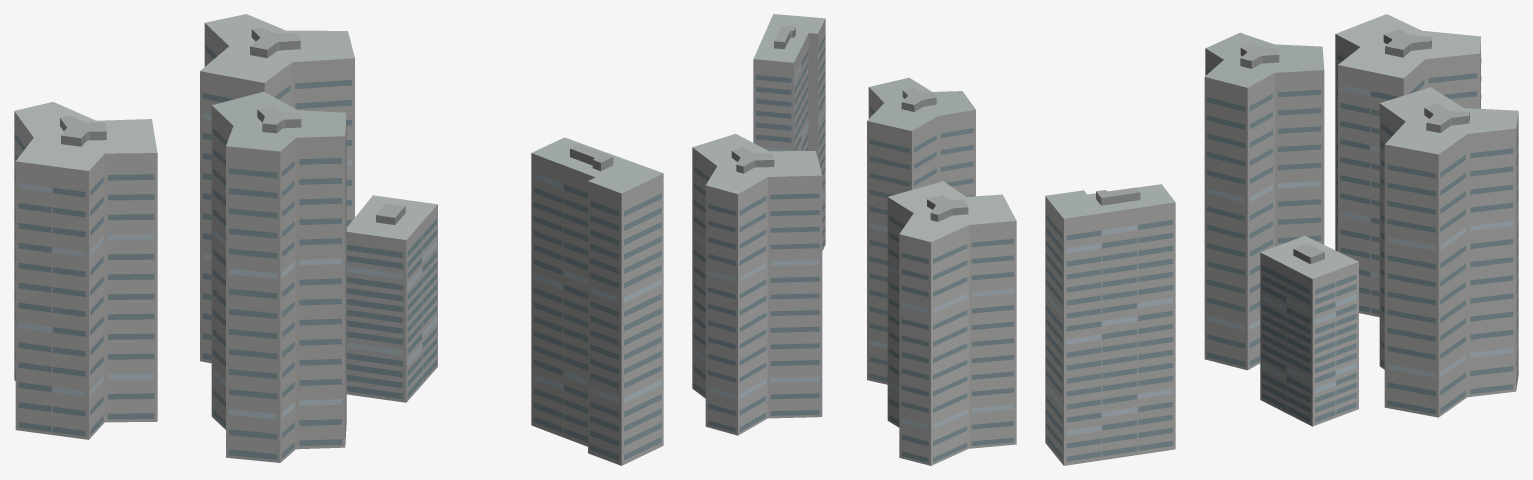
File: apt-a10028146.glb
3 renders of one model, left to right at view 1: azimuth 30°, elevation 25°; view 2: azimuth 150°, elevation 25°; view 3: azimuth 270°, elevation 25°, orthographic. The views are drawn at different scales.
Parts seen in each view (by area): view 1: apt-a10028146; view 2: apt-a10028146; view 3: apt-a10028146.
Boxes of the visible parts, <box> form: apt-a10028146: <box>14,14,663,465</box>; apt-a10028146: <box>692,14,1016,465</box>; apt-a10028146: <box>1045,14,1518,465</box>.
Bounding box in the file's own units: 138 × 90 × 133.
